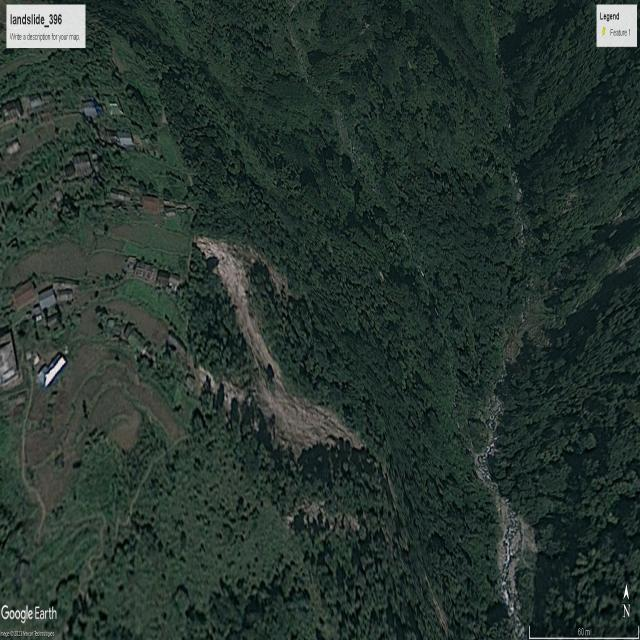Landslide: (201, 244, 373, 470)
